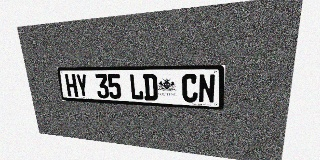3: (95, 74, 109, 98)
5: (107, 74, 122, 99)
C: (182, 74, 198, 103)
D: (143, 74, 158, 101)
H: (65, 74, 78, 97)
L: (129, 74, 144, 100)
N: (198, 74, 216, 103)
Y: (75, 74, 89, 98)
